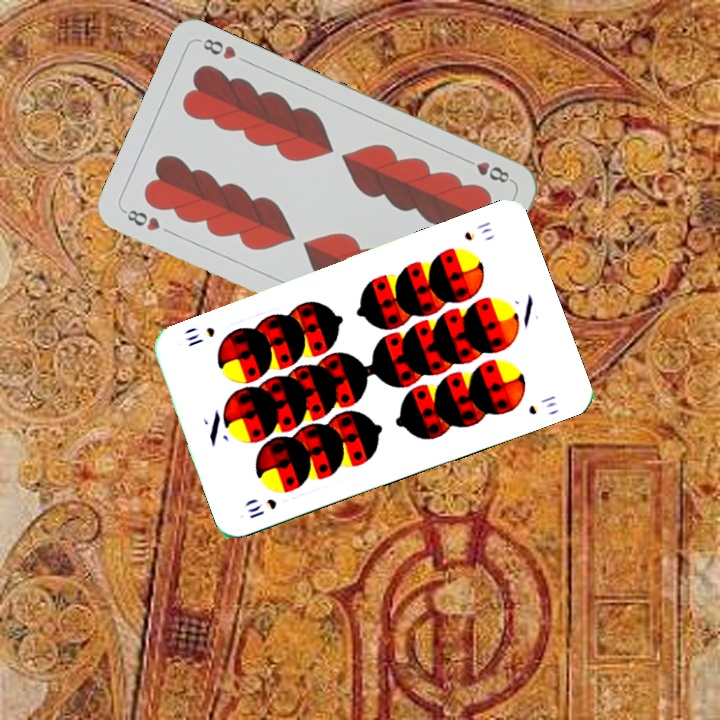H8: (459, 154, 516, 186), (119, 205, 163, 234)
S10: (243, 494, 280, 521), (460, 217, 494, 244)
